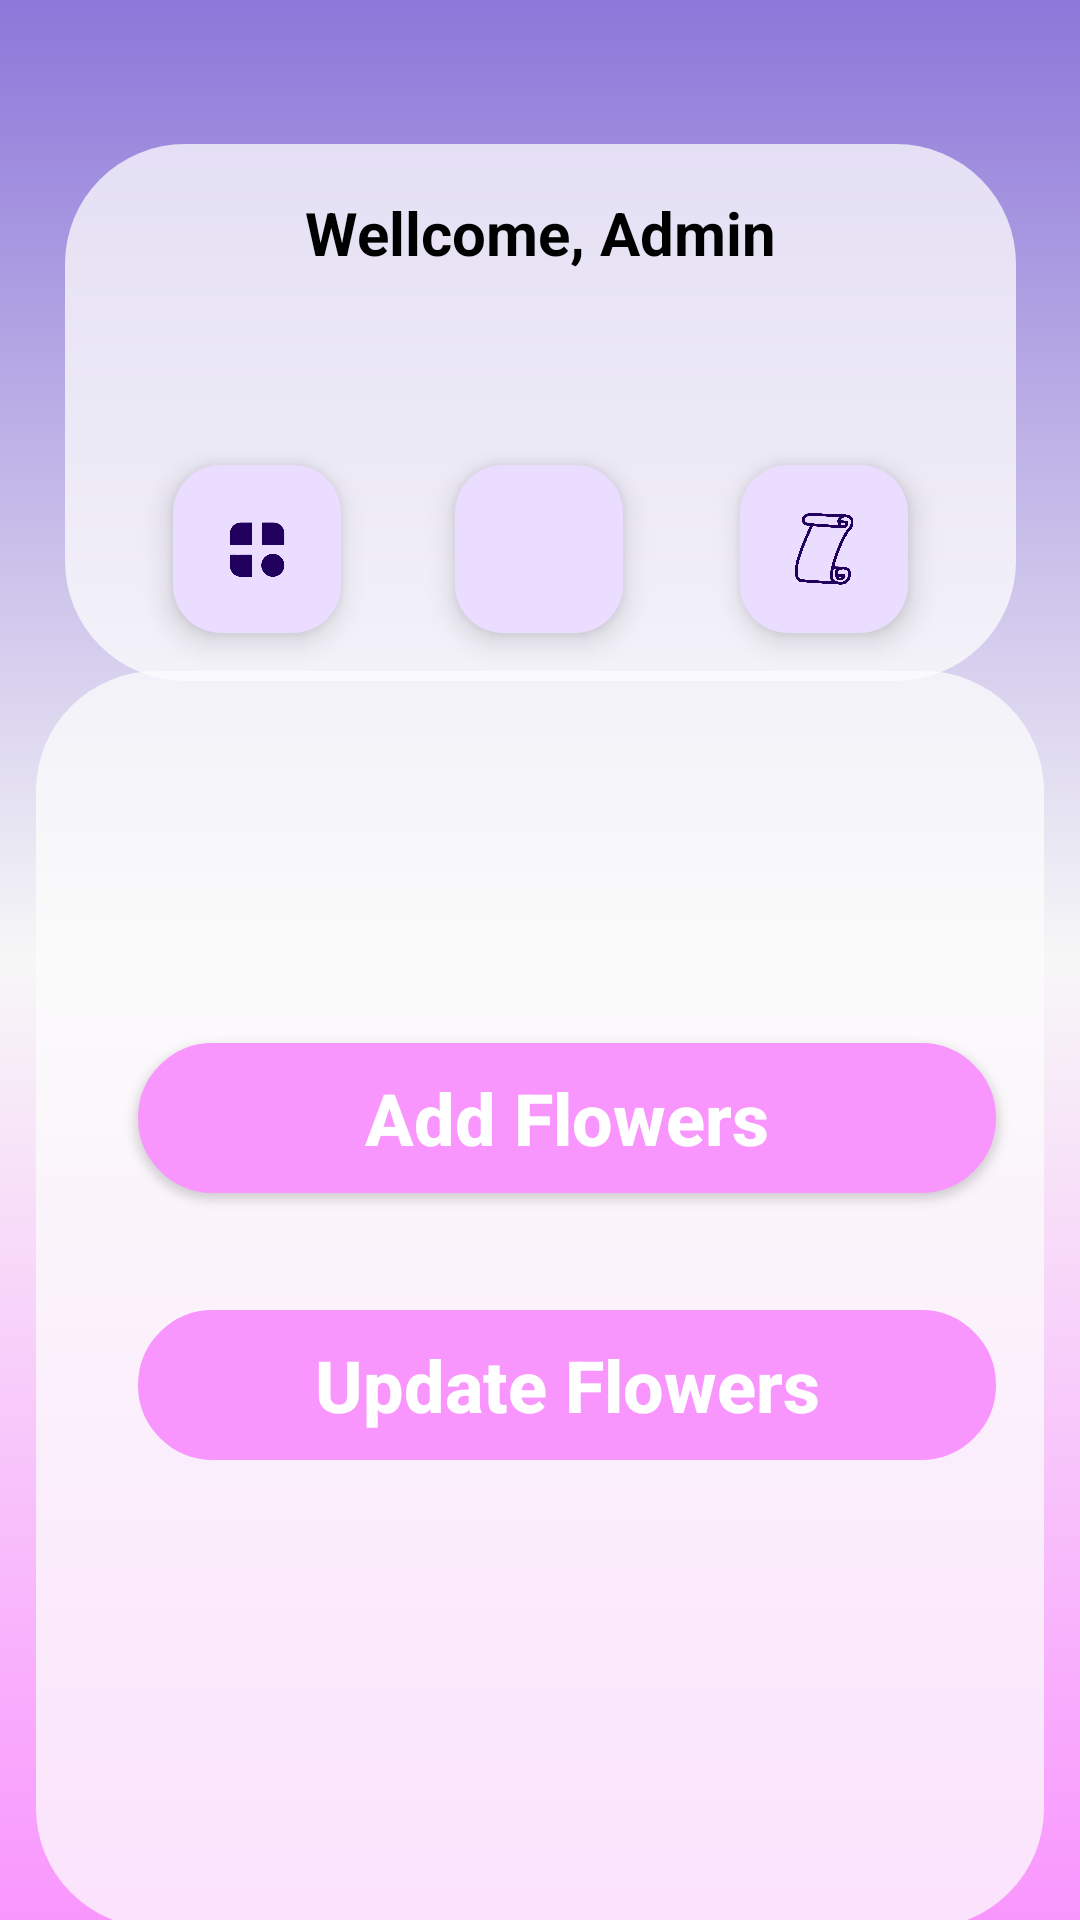

Locate icon controls on the screen. Image size 1080 × 1920, boxes as [x1=x1, y1=y1, x2=x2, y2=y2].
category: [x1=230, y1=522, x2=284, y2=577]
order admin: [x1=740, y1=465, x2=908, y2=633]
